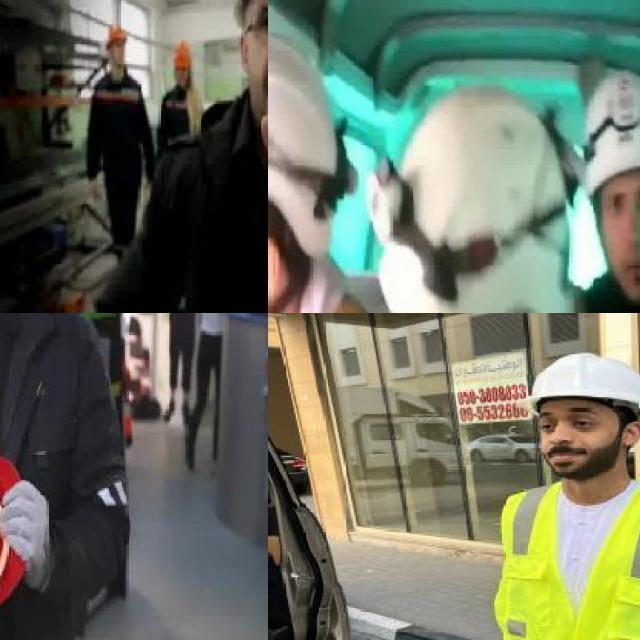apron: (0, 480, 51, 589)
